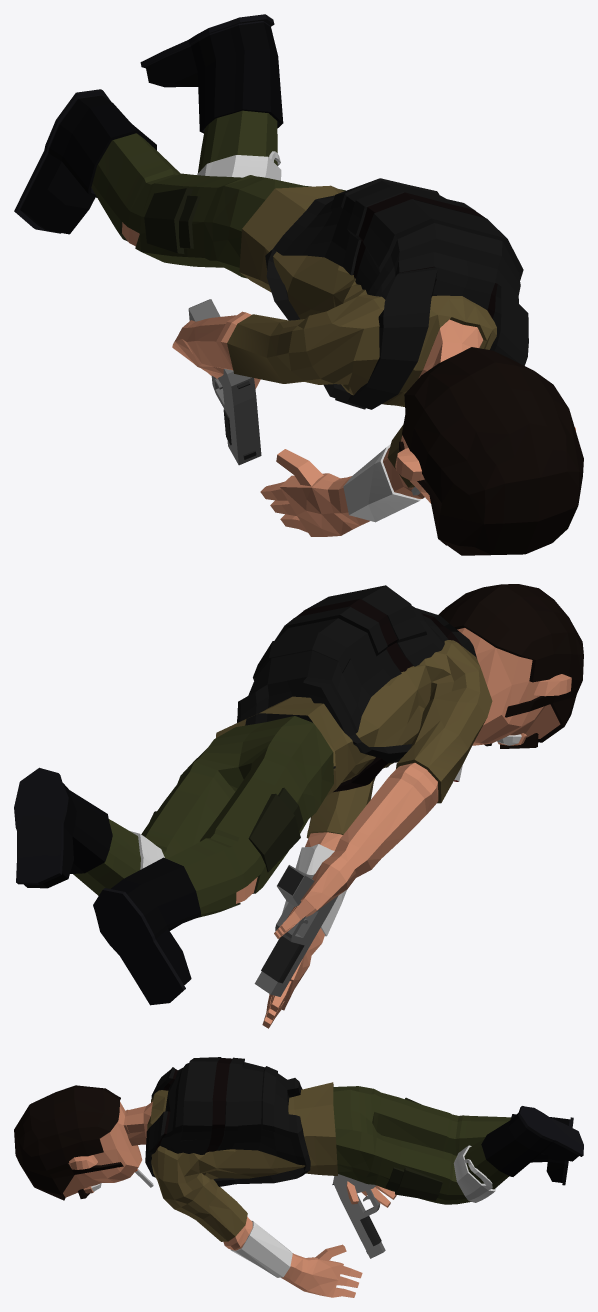
Rendered from frame_0083.obj.
3 views of the same model, one above another, from view 1: azimuth 30°, elevation 25°; view 2: azimuth 150°, elevation 25°; view 3: azimuth 270°, elevation 25° (orthographic). The views are drawn at different scales.
Parts seen in each view (by area): view 1: Body, Gun; view 2: Body, Gun; view 3: Body, Gun.
Boxes of the visible parts, bbox=[...] form: Body: bbox=[14, 14, 583, 555]; Gun: bbox=[188, 299, 261, 465]; Body: bbox=[14, 584, 583, 1028]; Gun: bbox=[254, 865, 337, 996]; Body: bbox=[14, 1057, 583, 1297]; Gun: bbox=[332, 1174, 385, 1258].
Bounding box in the file's own units: 1.33 × 1.94 × 4.21.
